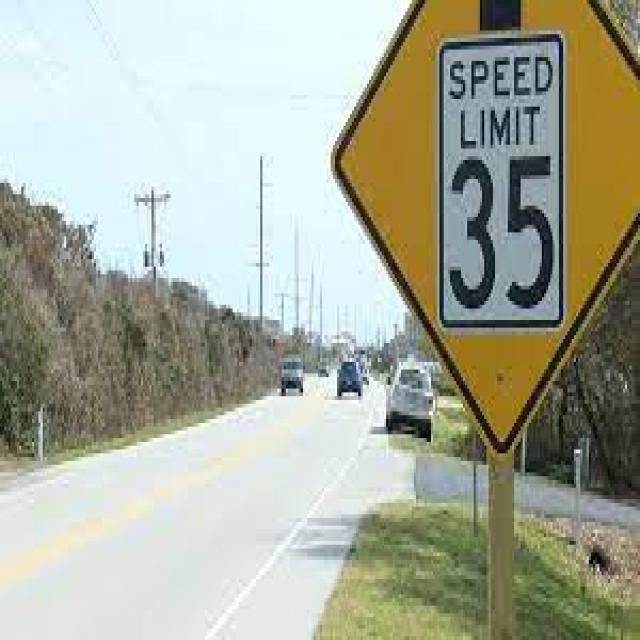speedLimit35: (446, 54, 557, 312)
